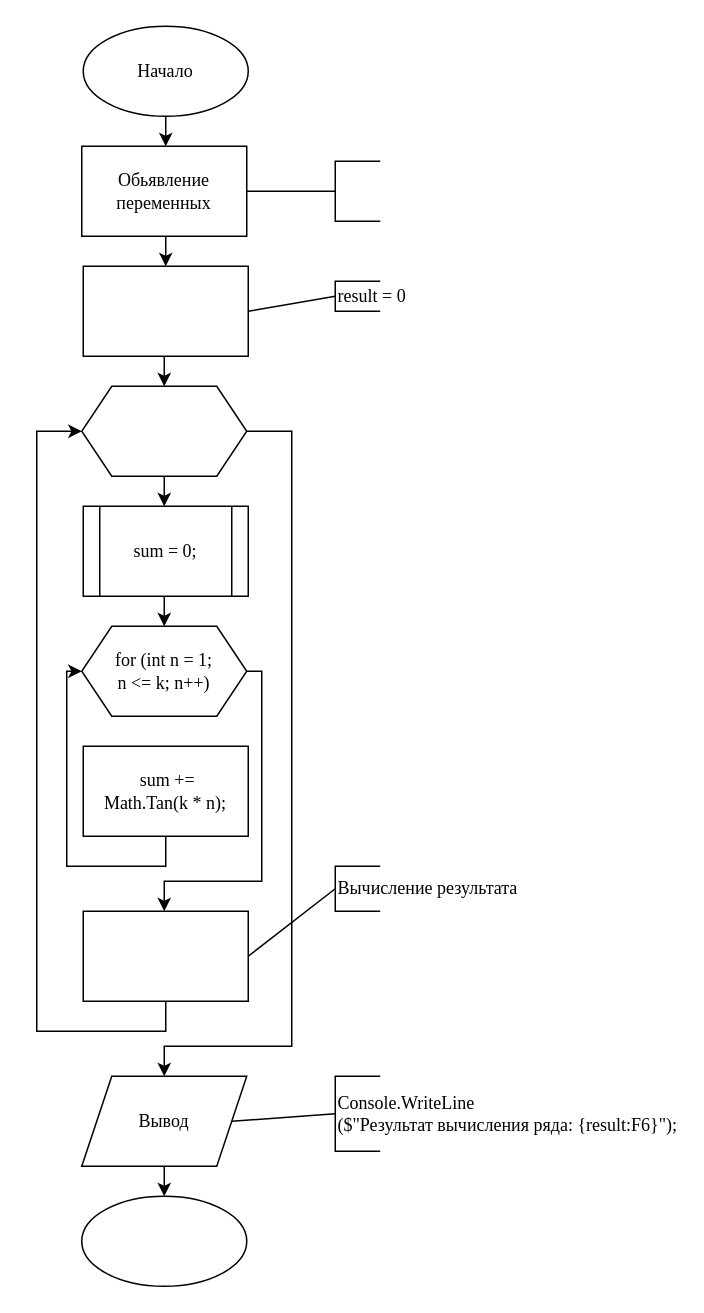
The diagram is 704 pixels wide and 1313 high, and some of its shapes have lost their labels. The centre of each missing label's shape, as x and y in pixels:
"double sum; double result;" belongs at pixel 357 190.
"for (int k = 1; k <= 10; k++)" belongs at pixel 163 430.
"result += sum / k;" belongs at pixel 165 955.
"Инициализация переменных" belongs at pixel 165 310.
"Конец" belongs at pixel 163 1240.
